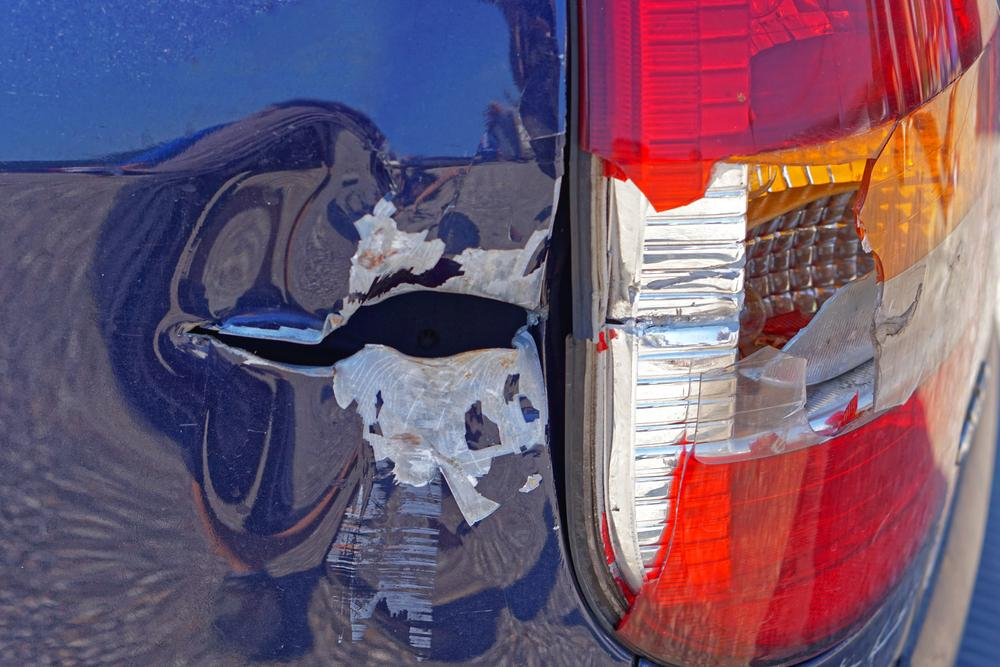crack: (191, 290, 533, 370)
dent: (97, 107, 390, 553)
lamp broken: (577, 0, 1000, 667)
scratch: (323, 439, 447, 662)
